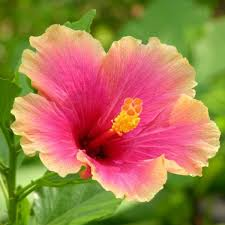hybiscus: (10, 25, 224, 203)
